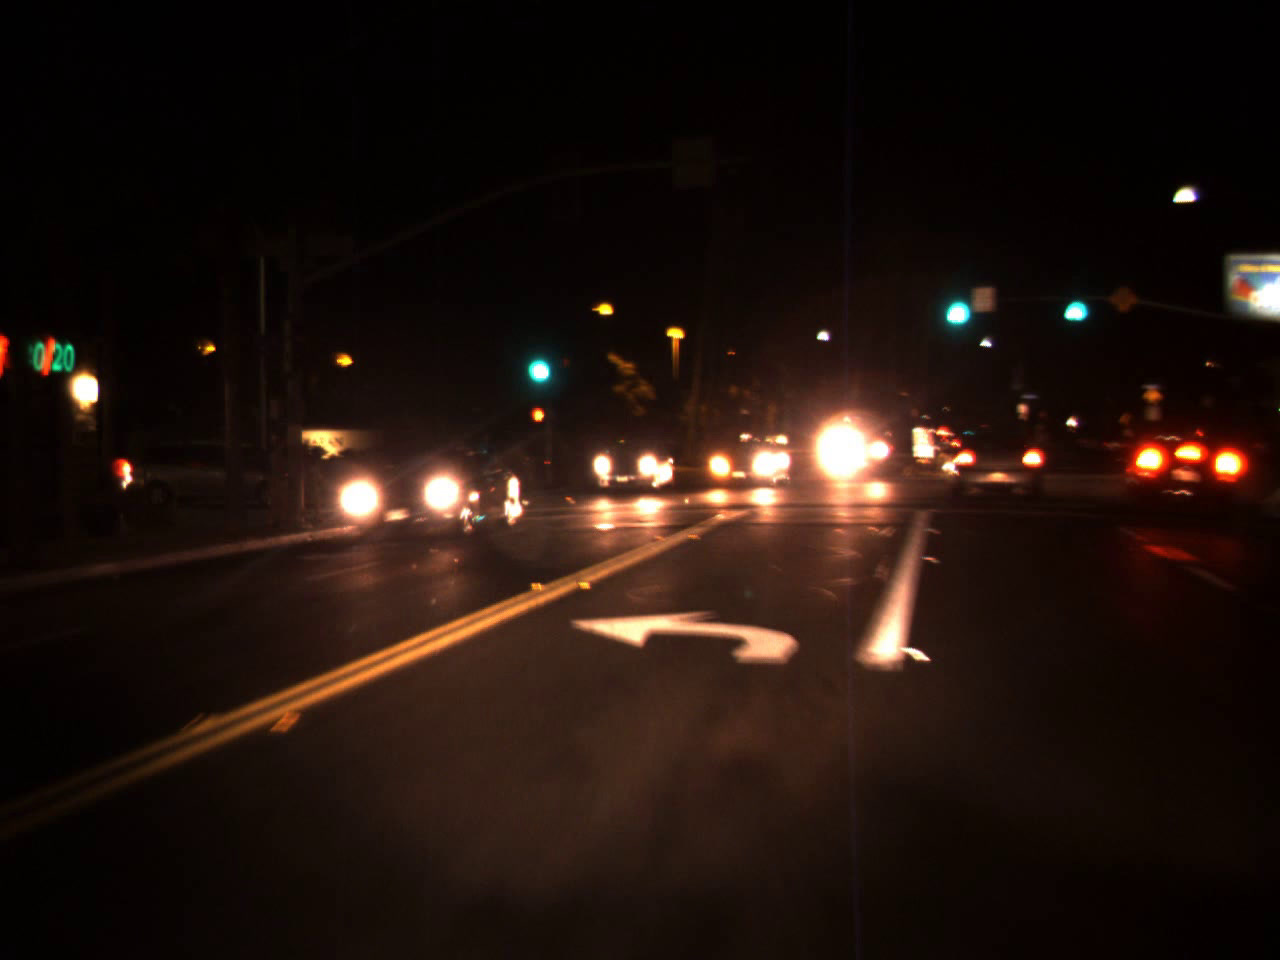go: (936, 271, 975, 334), (519, 329, 555, 392), (1056, 275, 1092, 329)
